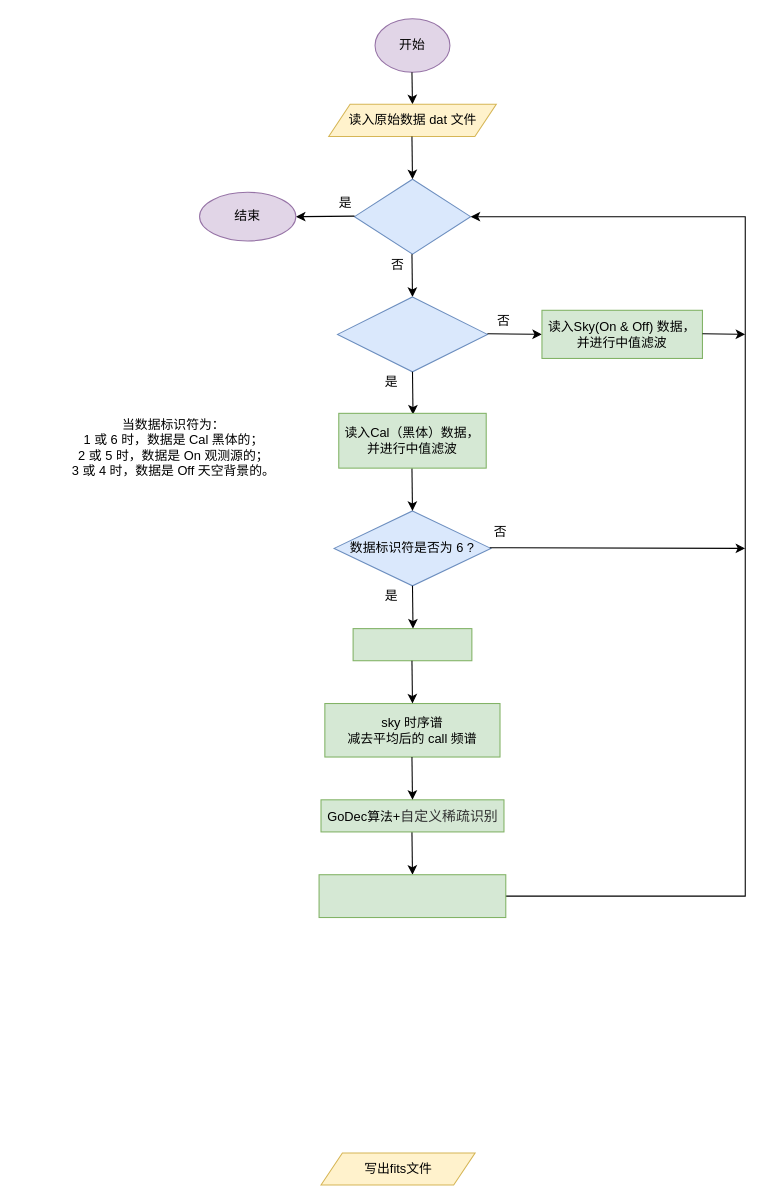
Some shapes in this 773 by 1204 pixel diagram are drawn without their labels. The centre of each missing label's shape, as x and y in pixels:
提取头文件信息: point 412,644
数据标识符是否 为 1 或 6 ?: point 412,334
文件是否读完？: point 412,216
用得到的稀疏矩阵 S 估算 天文信号，并做平均: point 412,896
